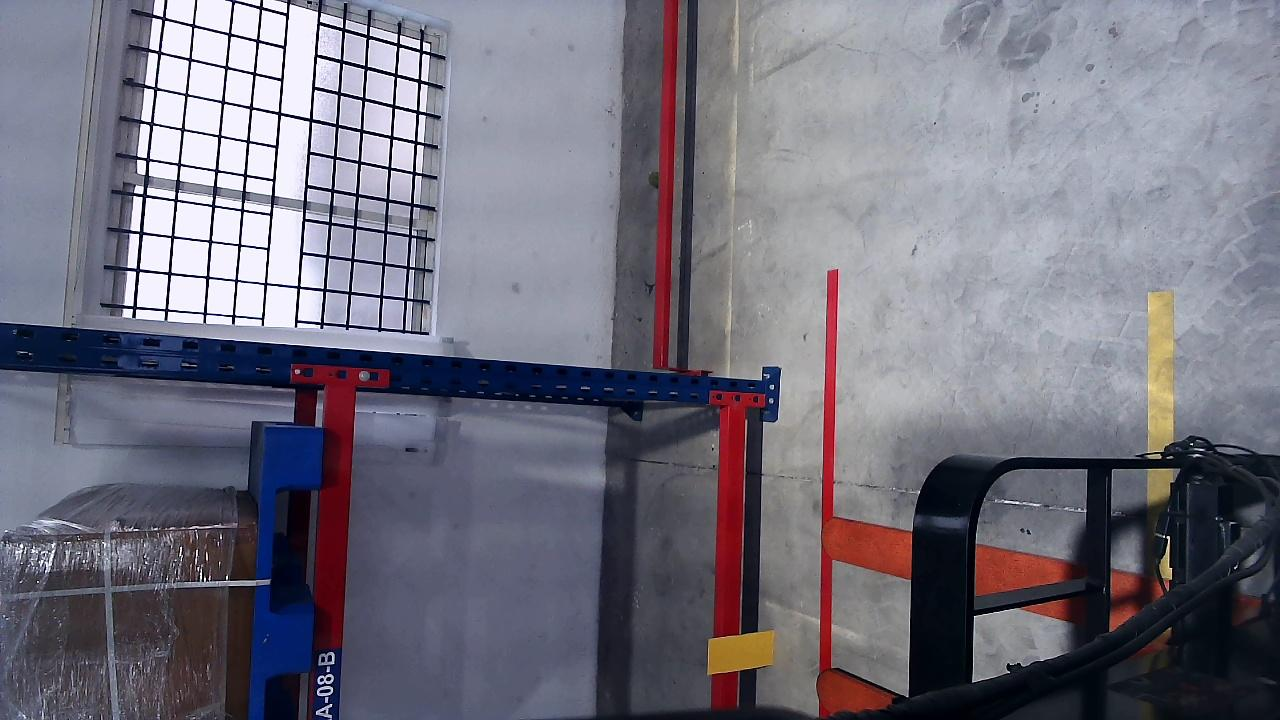h_rack: (308, 384, 359, 713), (717, 406, 751, 707)
orange_strip: (709, 630, 775, 674)
red_line: (814, 268, 844, 717)
small_pallet: (246, 400, 324, 719)
yellow_line: (1145, 290, 1175, 453)
